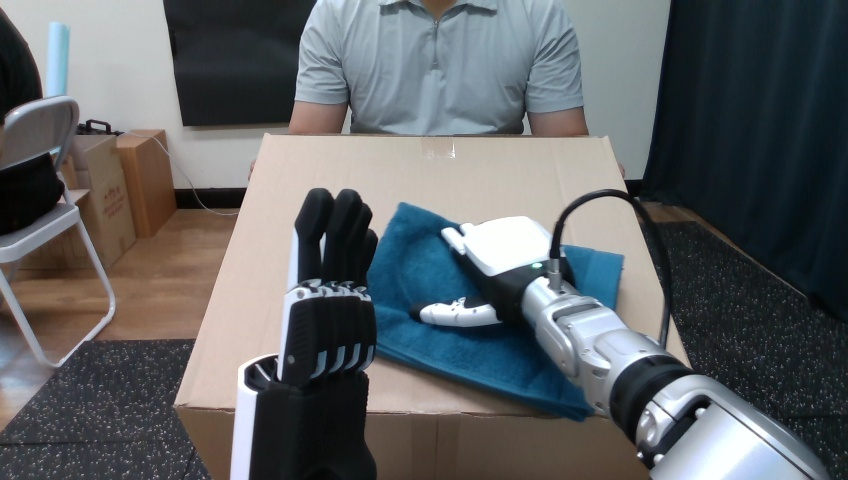left robot hand: (657, 219, 847, 478), (231, 188, 377, 478)
